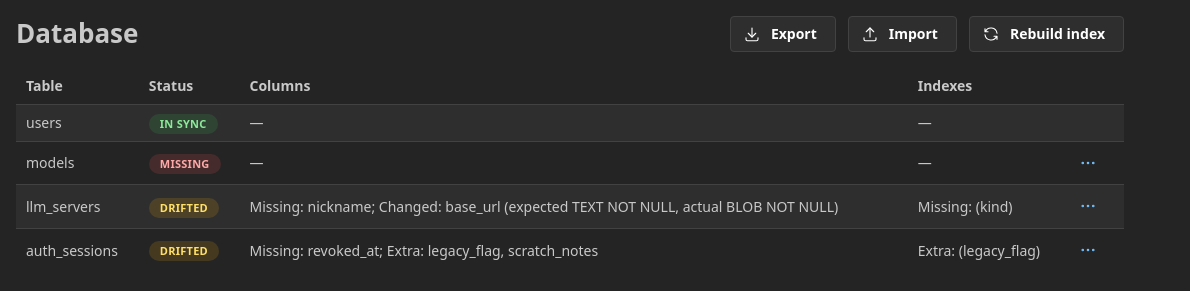
Scenario: the menu offers only the action the row's status allows › a drifted row (llm_servers) offers Sync and not Create — DoD-1 (UC-015, D4)
Click the submit button: (1088, 206) [1074,192,1102,220]
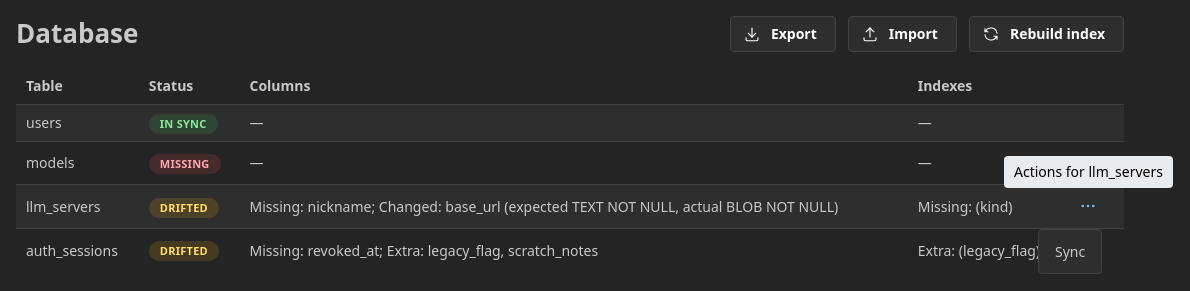
Check: the menu item "Sync" is shown, box [1043,234,1097,269]
